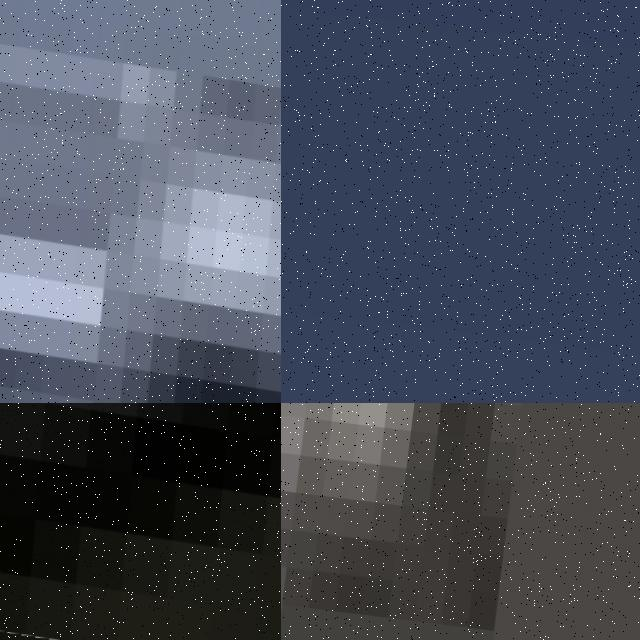0: (0, 0, 281, 403)
drone: (0, 403, 281, 640)
